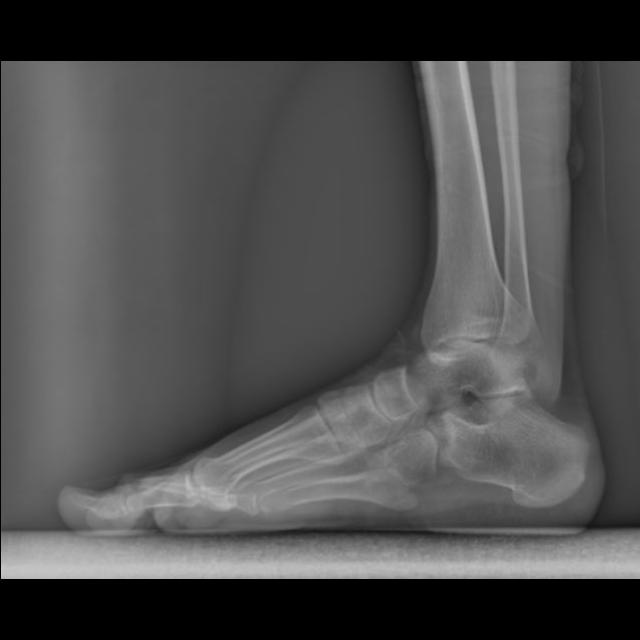a: (442, 398, 589, 509)
b: (372, 363, 421, 420)
c: (195, 401, 351, 511)
